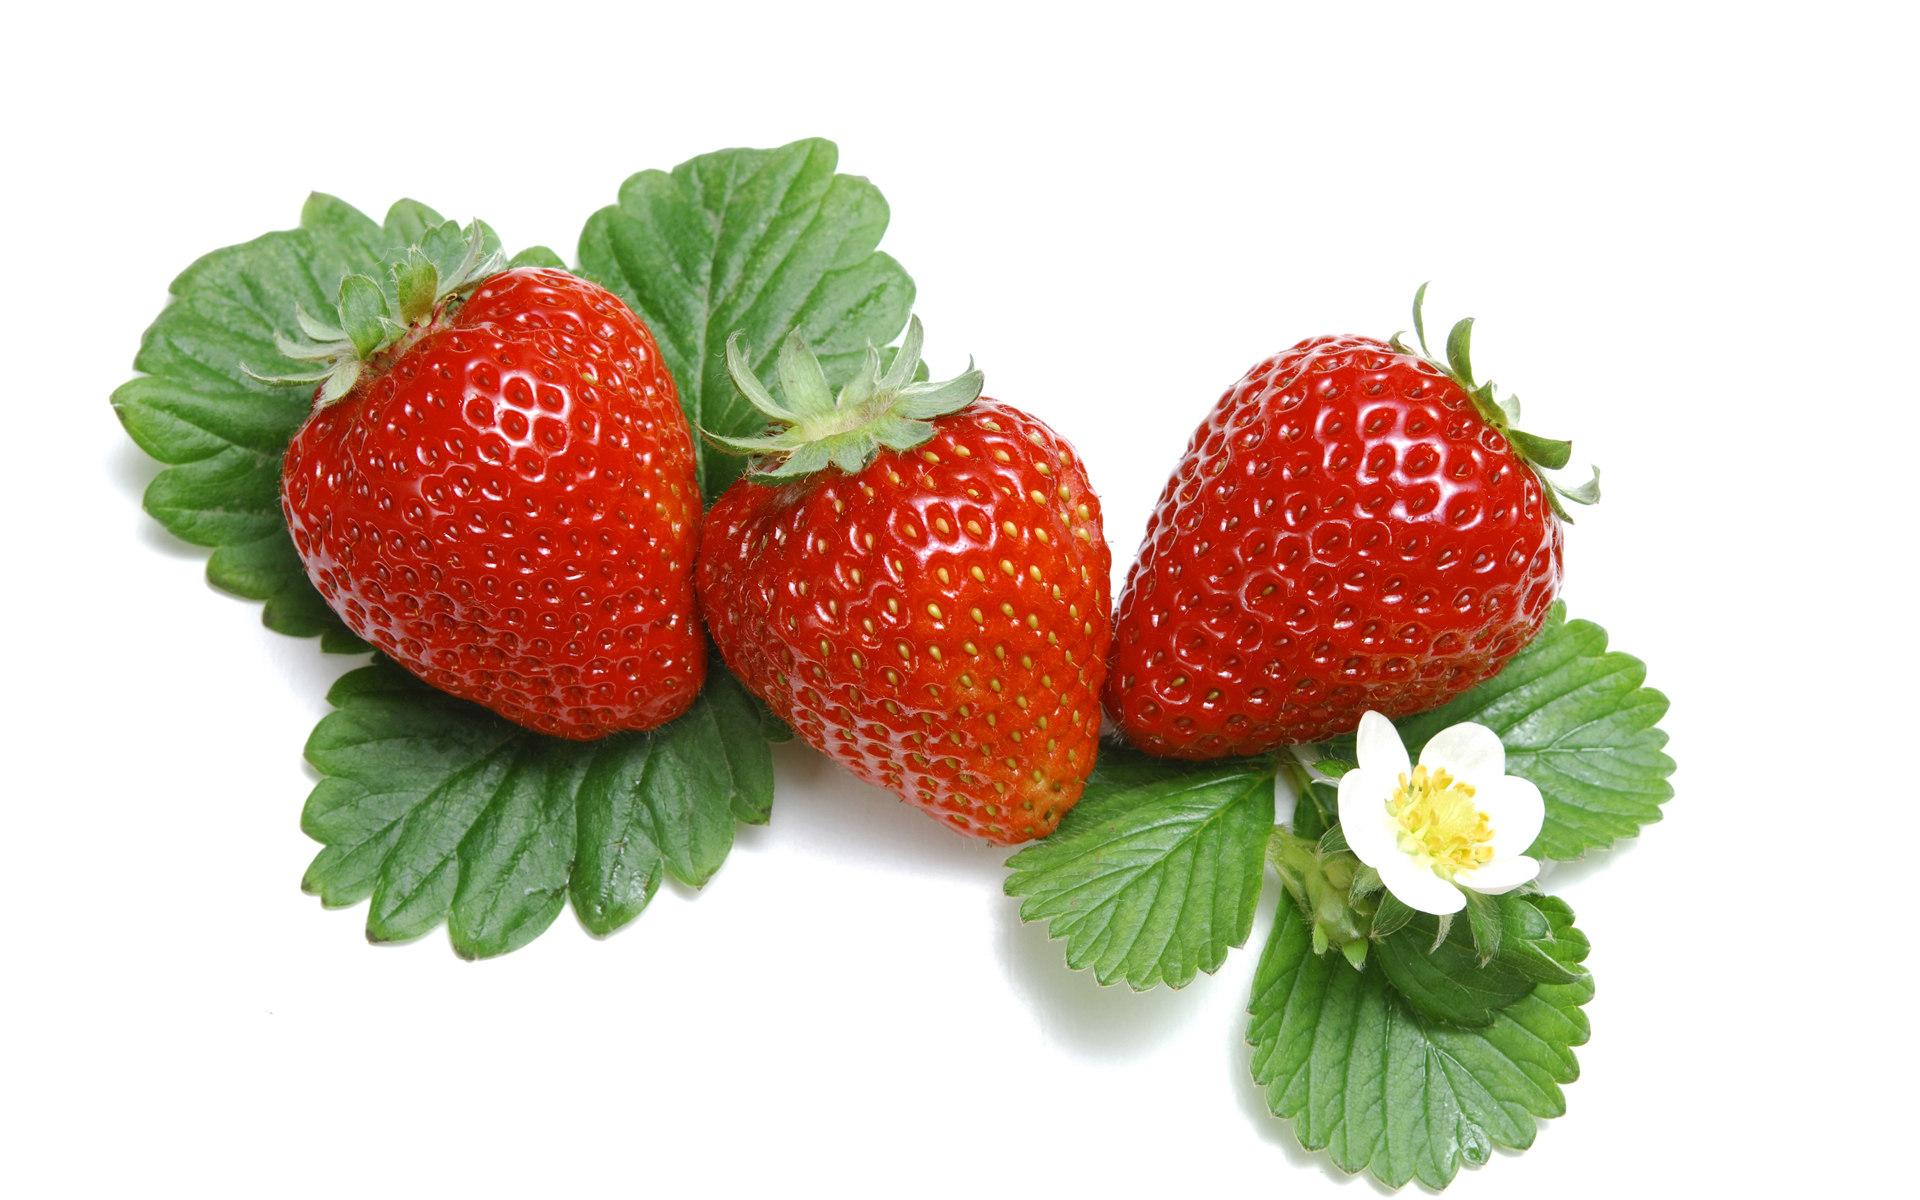strawberry: (243, 234, 715, 741), (1091, 294, 1565, 760), (683, 354, 1111, 845)
